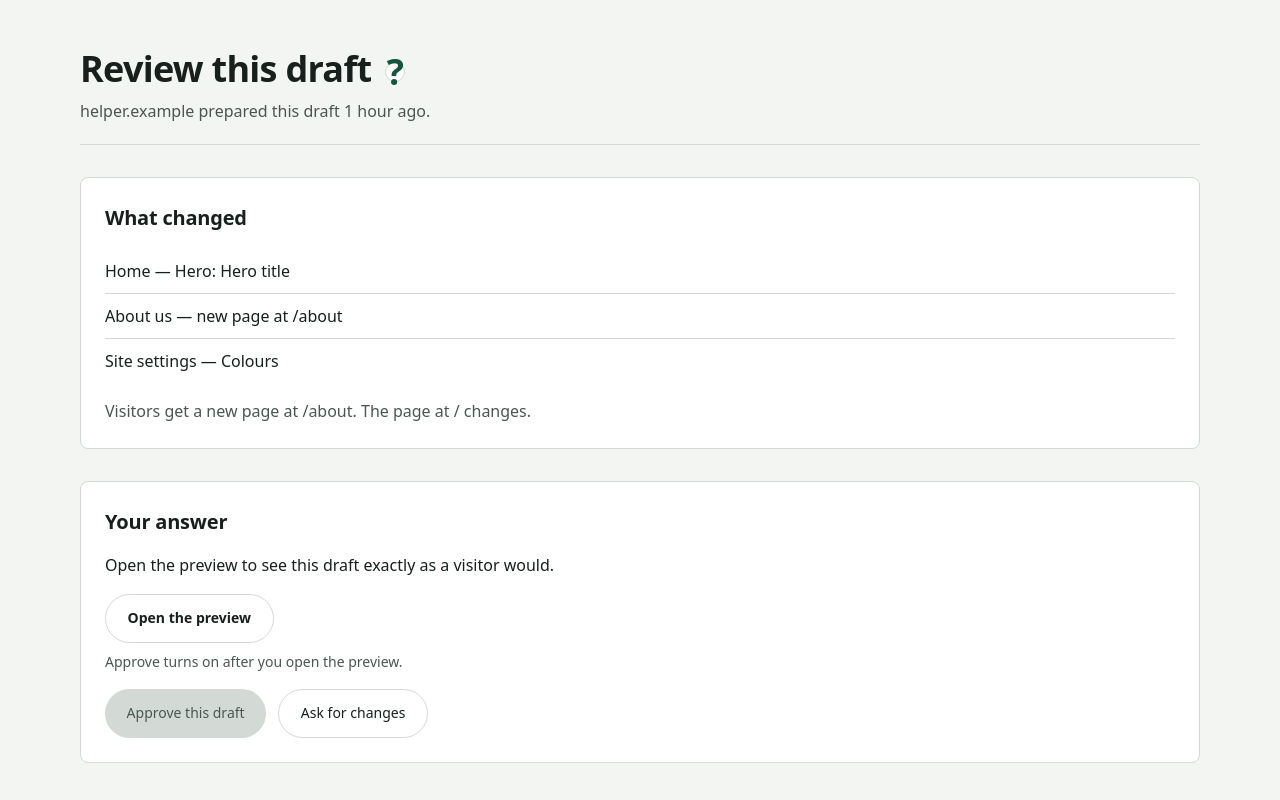
it: Draft review screen › turns Approve on only after the server serves that exact preview
Expected: the button "Approve this draft" is disabled, [105, 689, 266, 738]
Step 1. Click the link "Open the preview" → (189, 618), box [105, 594, 274, 643]
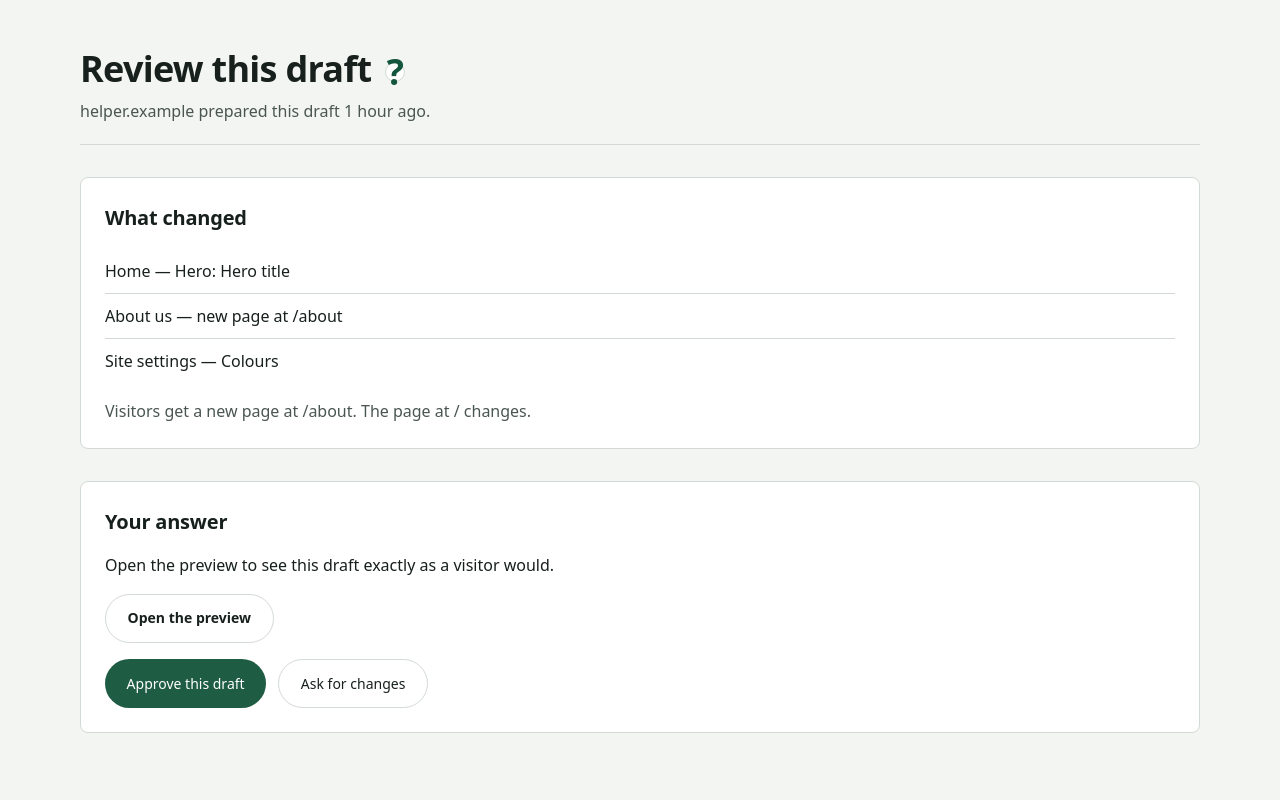
Expected: the button "Approve this draft" is enabled, [105, 659, 266, 708]
